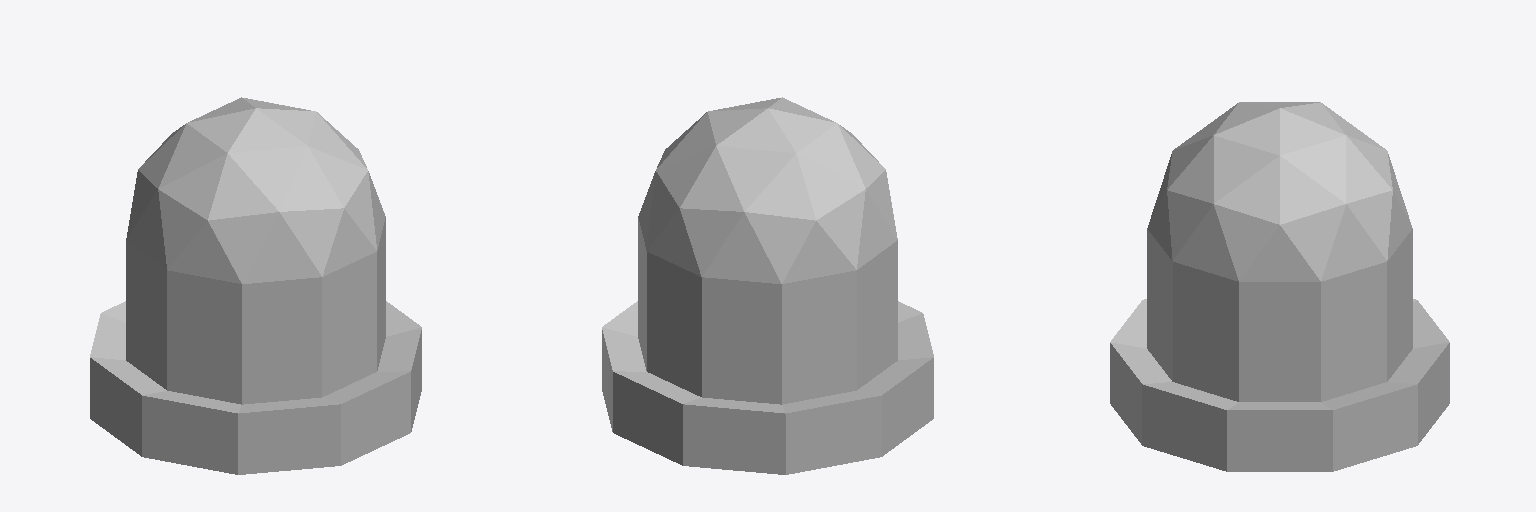
Rendered from doc_foote.obj.
3 renders of one model, left to right at view 1: azimuth 30°, elevation 25°; view 2: azimuth 150°, elevation 25°; view 3: azimuth 270°, elevation 25°, orthographic.
Parts seen in each view (by area): view 1: Icosphere; view 2: Icosphere; view 3: Icosphere.
Part boxes in pixels (x1,y1,x2,y2): Icosphere: (90,97,421,474); Icosphere: (602,97,933,474); Icosphere: (1110,102,1449,471).
Bounding box in the file's own units: 1.22 × 1.23 × 1.28.